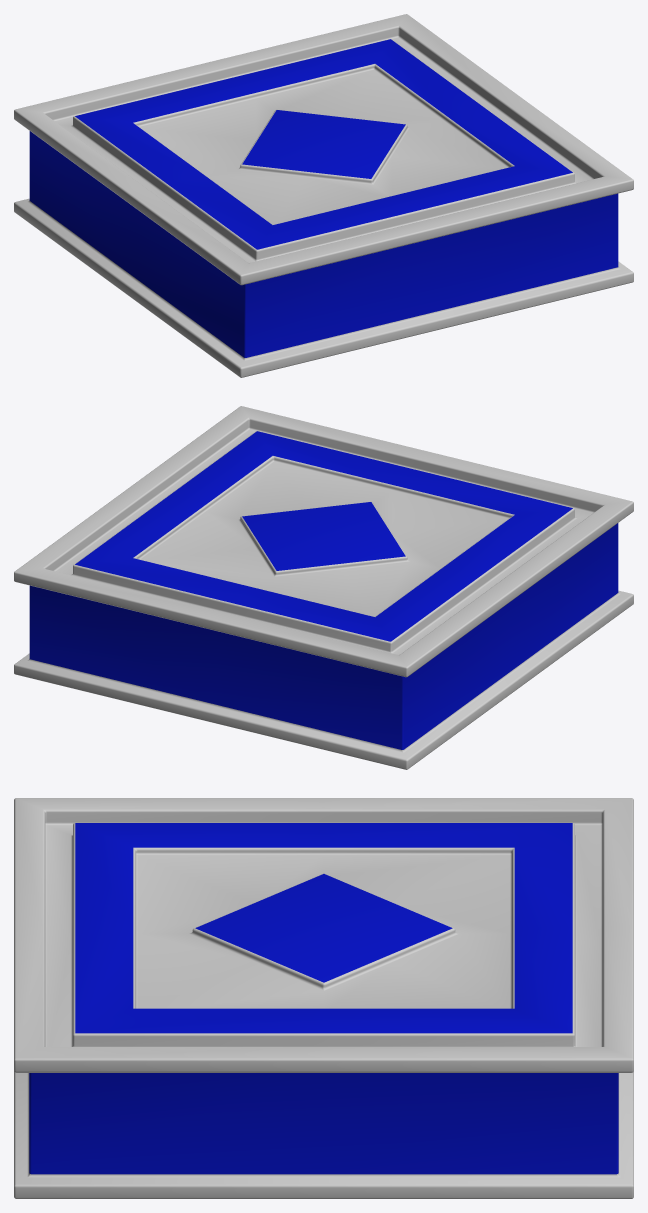
File: platform_blue.fbx
3 renders of one model, top to bottom at view 1: azimuth 30°, elevation 25°; view 2: azimuth 150°, elevation 25°; view 3: azimuth 270°, elevation 25°, orthographic. The views are drawn at different scales.
Parts seen in each view (by area): view 1: Würfel_2; view 2: Würfel_2; view 3: Würfel_2.
Boxes of the visible parts, left/top/right/bottom form: Würfel_2: left=14, top=14, right=633, bottom=377; Würfel_2: left=14, top=406, right=633, bottom=769; Würfel_2: left=14, top=798, right=633, bottom=1198.
Size of the model in its own units: 400 by 100 by 400.
